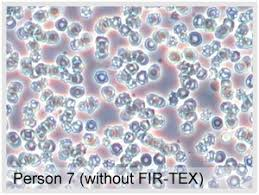Malaria: (116, 91, 133, 108), (70, 83, 85, 99), (56, 16, 69, 32), (93, 72, 109, 85), (154, 152, 167, 167), (141, 151, 153, 167), (189, 31, 202, 45), (177, 86, 190, 99), (26, 140, 38, 152), (212, 117, 223, 130), (217, 150, 227, 164), (169, 93, 179, 106), (86, 120, 97, 130)
